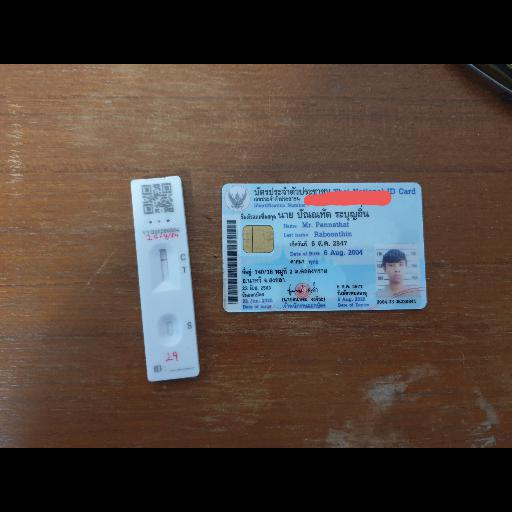Neg: (131, 175, 201, 383)
